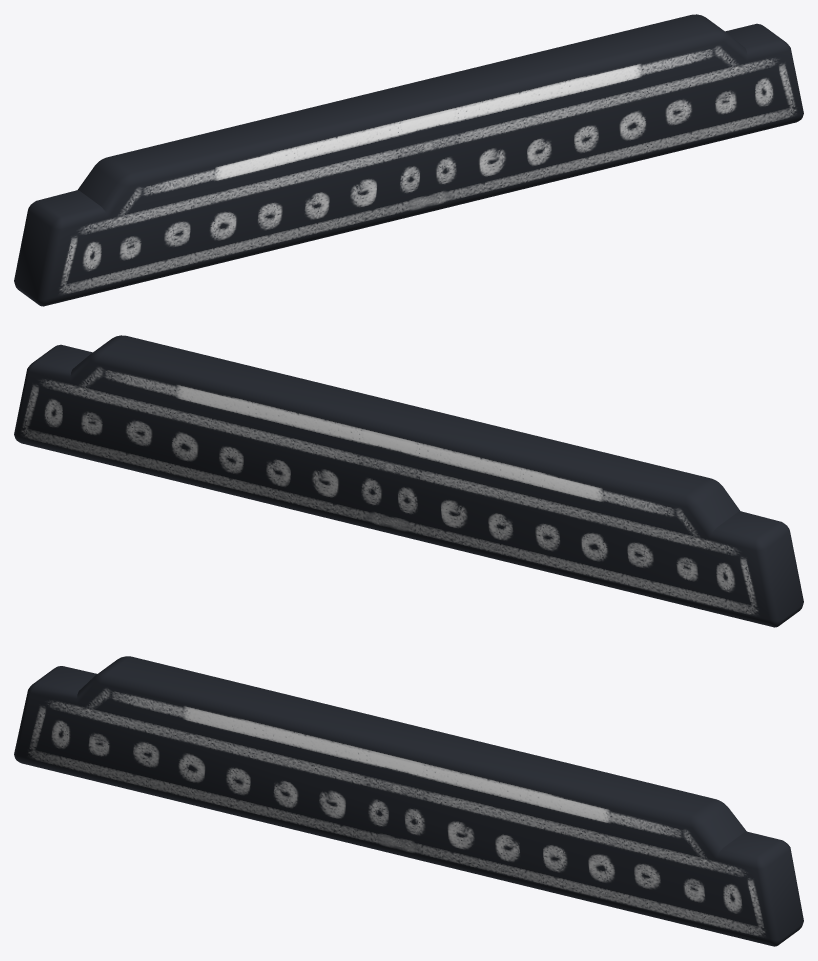
The model's file is SpaceshipBottom.fbx.
3 renders of one model, top to bottom at view 1: azimuth 30°, elevation 25°; view 2: azimuth 150°, elevation 25°; view 3: azimuth 330°, elevation 25°, orthographic.
Parts seen in each view (by area): view 1: m_SpaceshipBottom; view 2: m_SpaceshipBottom; view 3: m_SpaceshipBottom.
Part boxes in pixels (x1,y1,x2,y2): m_SpaceshipBottom: (14, 14, 803, 306); m_SpaceshipBottom: (14, 335, 803, 627); m_SpaceshipBottom: (14, 656, 803, 946).
Size of the model in its own units: 1.41 by 0.1968 by 0.1.
